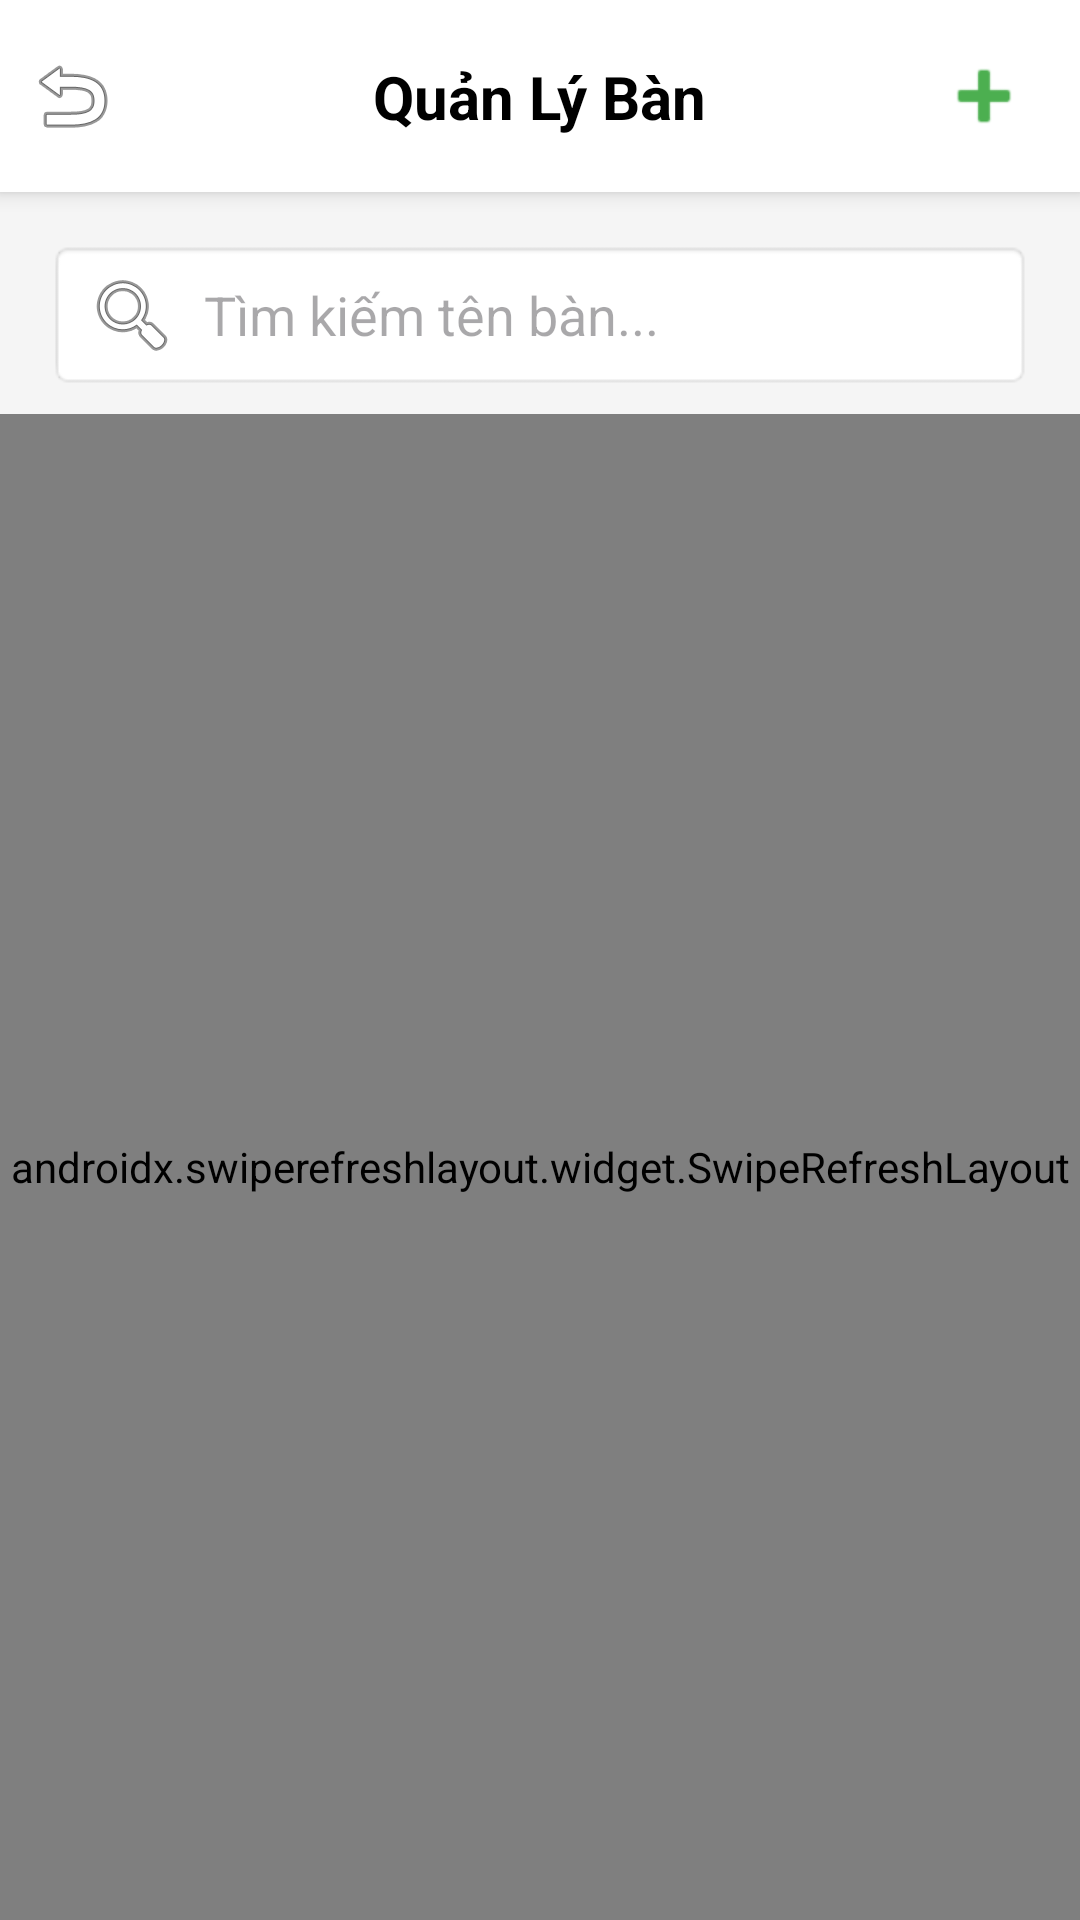

Screen size 1080 × 1920. Icon name, then its center in pixels as (x,y):
add: (984,96)
revert: (73,96)
